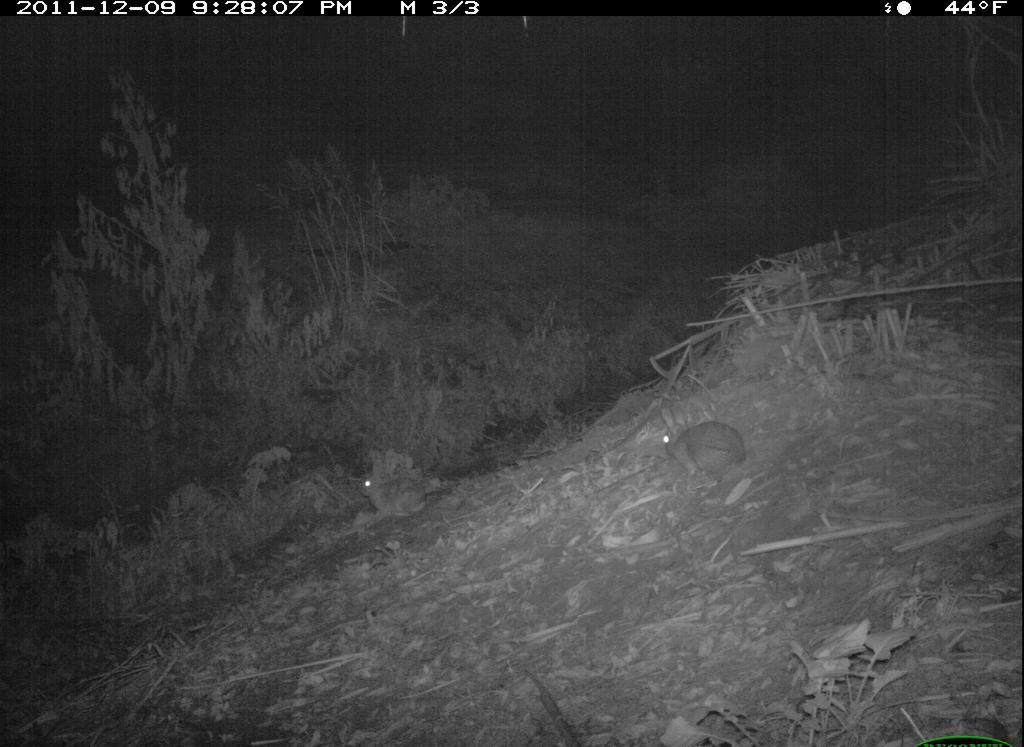rabbit: (355, 445, 438, 524)
